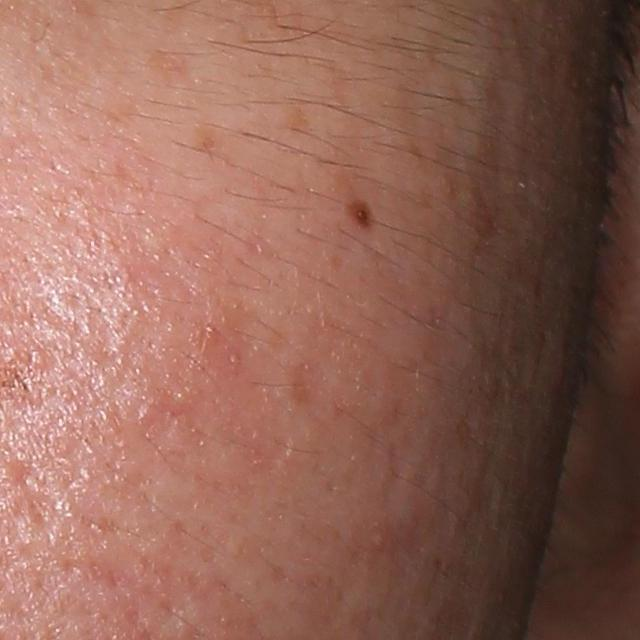atrophic_scar: (7, 460, 62, 534)
melasma: (284, 354, 329, 410), (144, 42, 197, 86), (273, 98, 321, 136), (186, 120, 230, 154)
